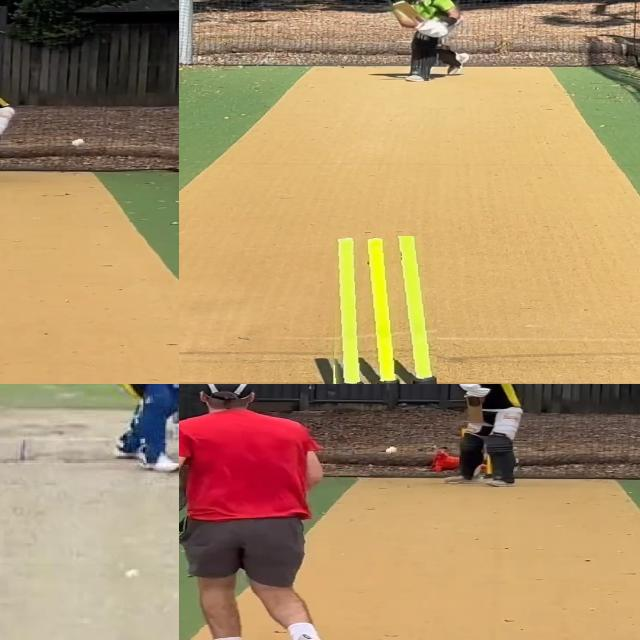Cricket ball: (124, 568, 140, 584), (71, 138, 88, 149), (383, 446, 399, 456)
Stumps: (325, 235, 437, 384)
